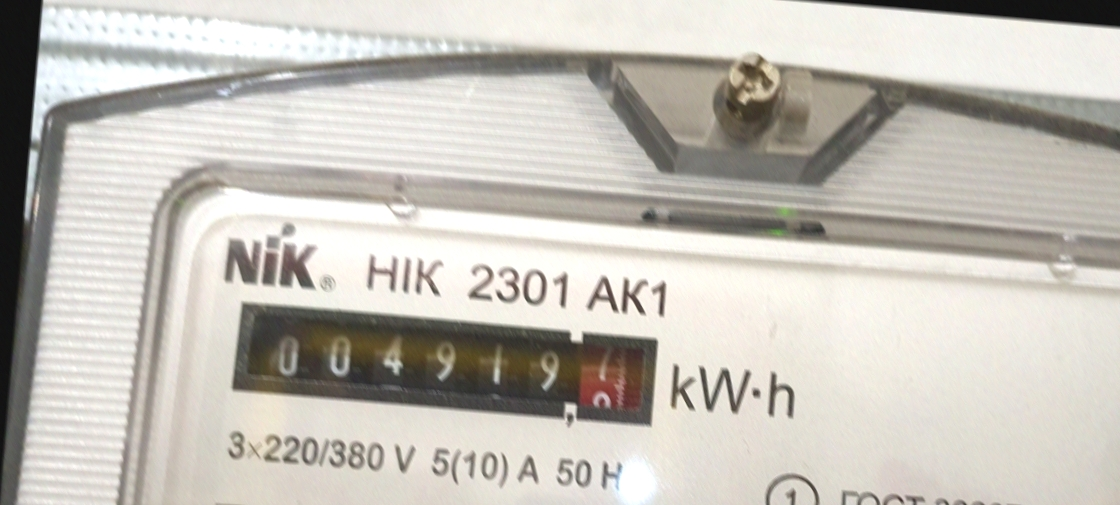0: (326, 332, 356, 379), (275, 332, 303, 378)
1: (489, 340, 507, 387)
4: (380, 331, 408, 376)
7: (590, 342, 617, 383)
9: (536, 346, 563, 395), (433, 339, 459, 384)
screen: (220, 287, 678, 445)
